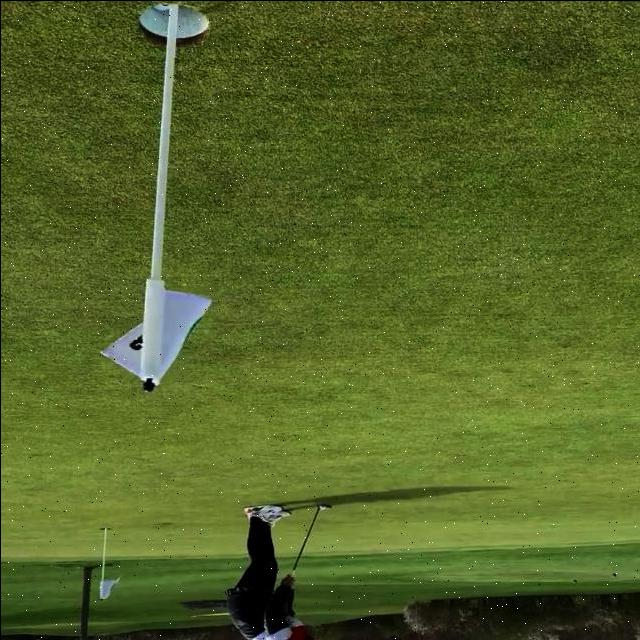ClubHandle: (288, 502, 331, 579)
ClubHead: (316, 503, 330, 508)
GolfBall: (319, 504, 325, 510)
